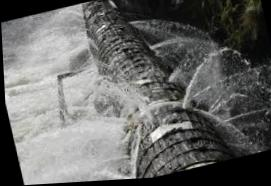leak: (1, 5, 162, 185), (127, 20, 271, 148)
